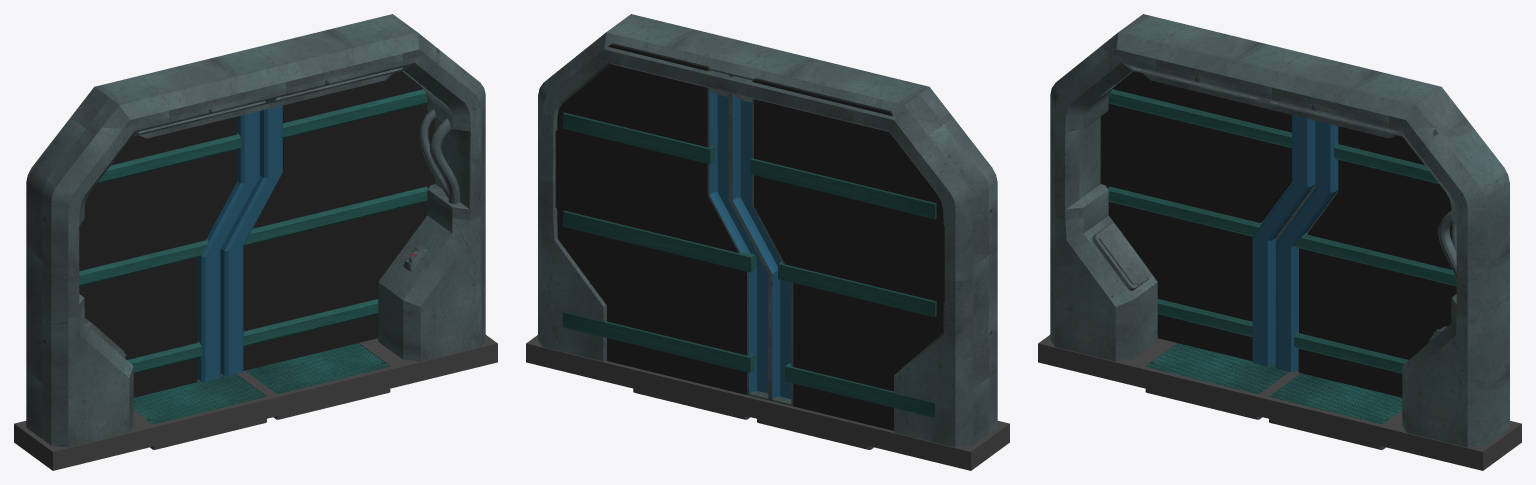
File: door.glb
The picture shows the model from 3 angles, left to right: view 1: azimuth 30°, elevation 25°; view 2: azimuth 150°, elevation 25°; view 3: azimuth 330°, elevation 25°; orthographic projection.
Visible parts, largest first — view 1: Cube; view 2: Cube; view 3: Cube.
Part boxes in pixels (bbox=[...]): Cube: bbox=[14, 14, 497, 470]; Cube: bbox=[526, 14, 1009, 470]; Cube: bbox=[1038, 14, 1521, 470].
Size of the model in its own units: 2.67 by 2 by 0.4035.
Materials: 8 (3 with a texture image).
